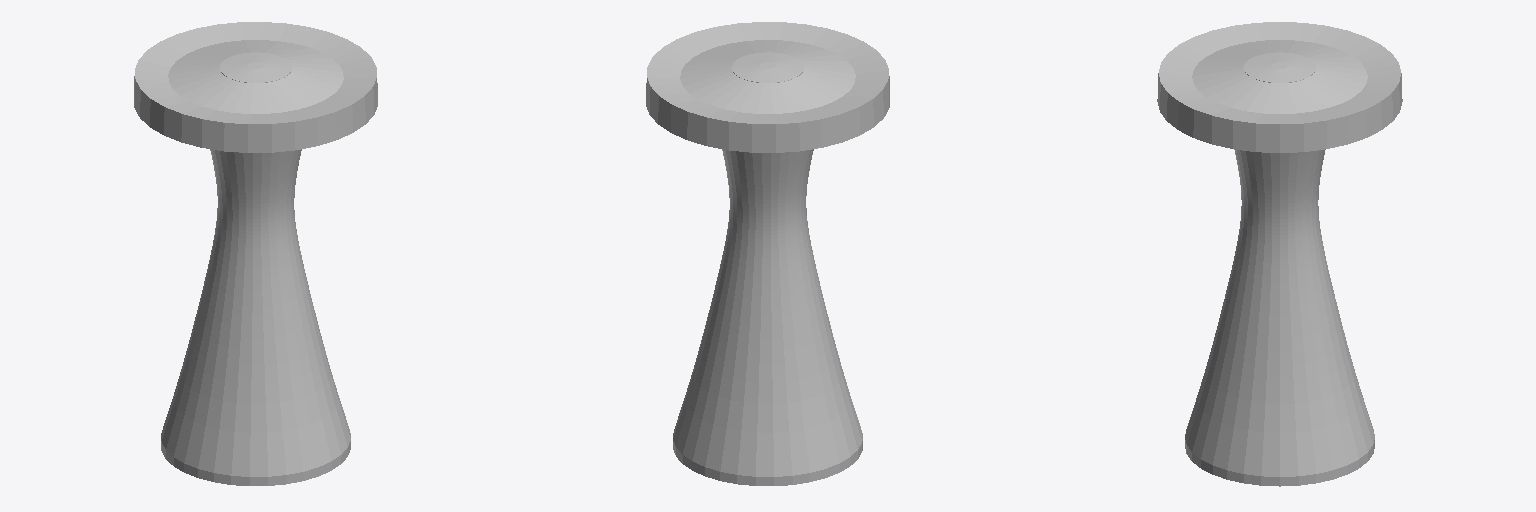
The model's file is UFOBuilding.obj.
The picture shows the model from 3 angles: view 1: azimuth 30°, elevation 25°; view 2: azimuth 150°, elevation 25°; view 3: azimuth 270°, elevation 25°; orthographic projection.
Parts seen in each view (by area): view 1: UFOBuilding; view 2: UFOBuilding; view 3: UFOBuilding.
Boxes of the visible parts, x1,y1,x2,y2 form: UFOBuilding: [134, 22, 377, 485]; UFOBuilding: [646, 22, 889, 485]; UFOBuilding: [1157, 22, 1402, 486].
Bounding box in the file's own units: 116 × 198 × 116.